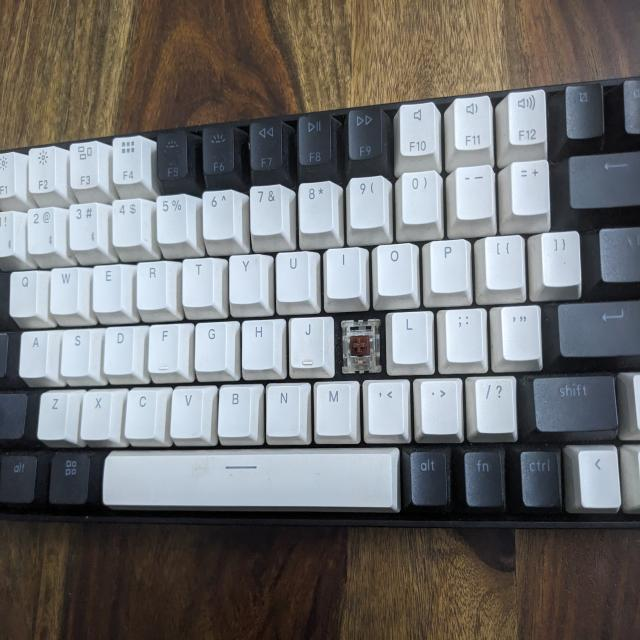C: (338, 315, 382, 371)
